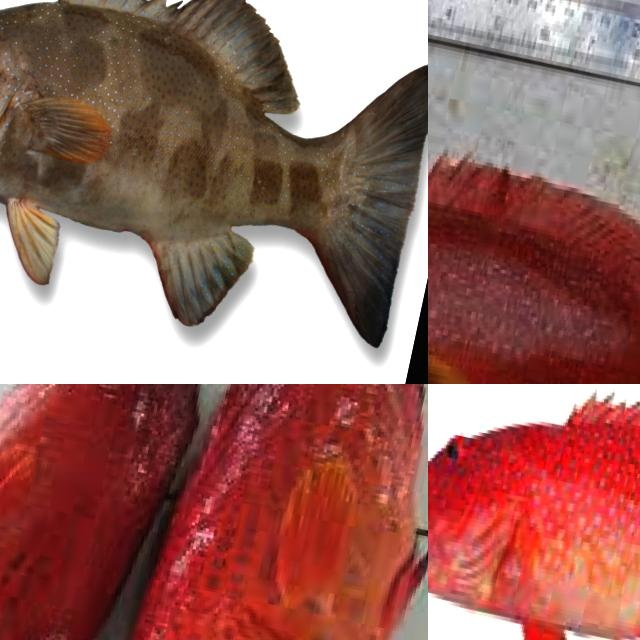Plectropomus-leopardus: (0, 0, 428, 384), (103, 384, 428, 640), (428, 78, 640, 384), (428, 384, 640, 640), (0, 384, 188, 640)
